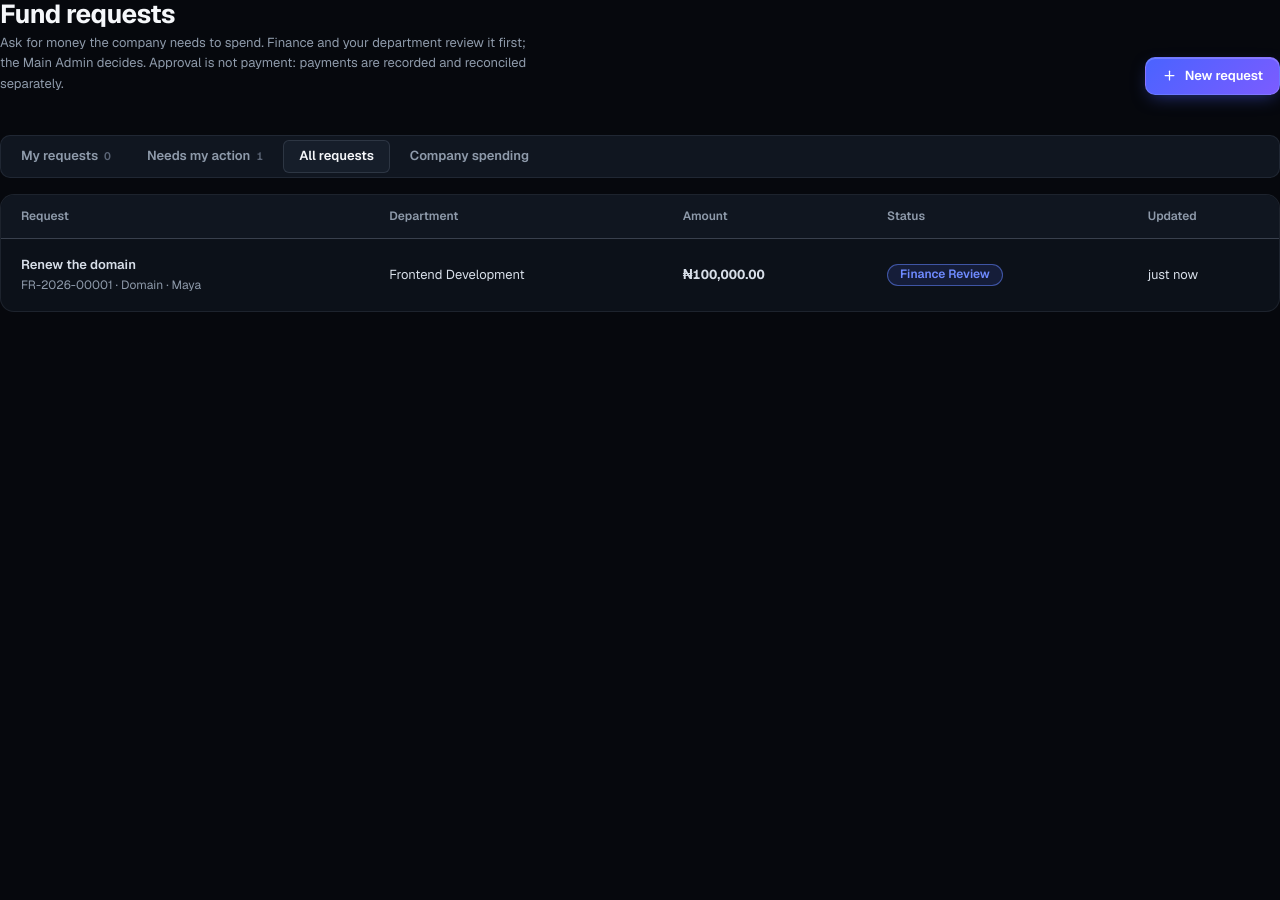
Test: Fund request detail: budget, refunds and receipts › shows a Finance reviewer the budget check, and says when approving would exceed it
Click the text "Renew the domain" at (78, 264), box [21,256,136,273]
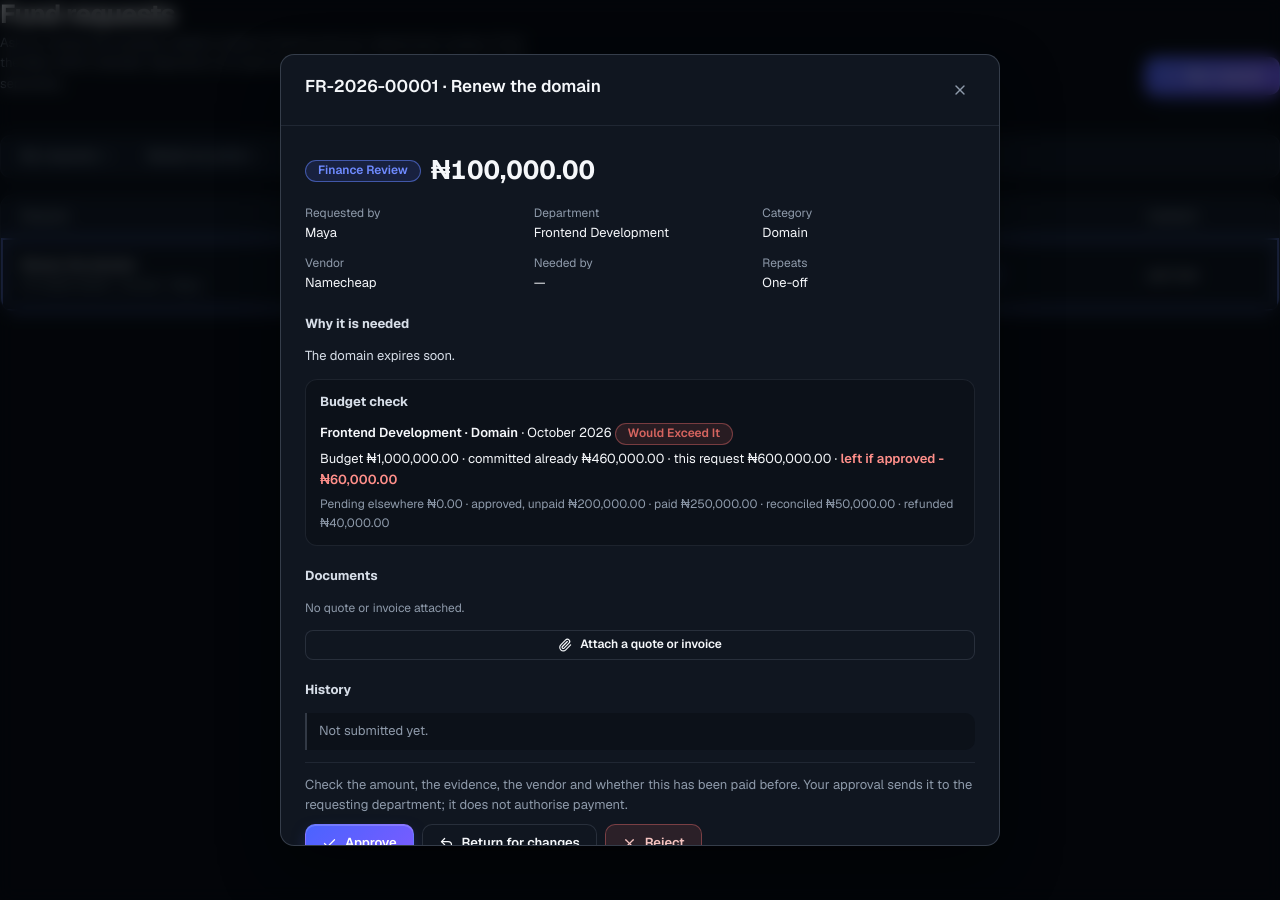
Now the text "Would exceed it" is shown, box [615,423,733,445]
Now the element labelled "Budget check" shows "left if approved", box [840,450,938,467]
